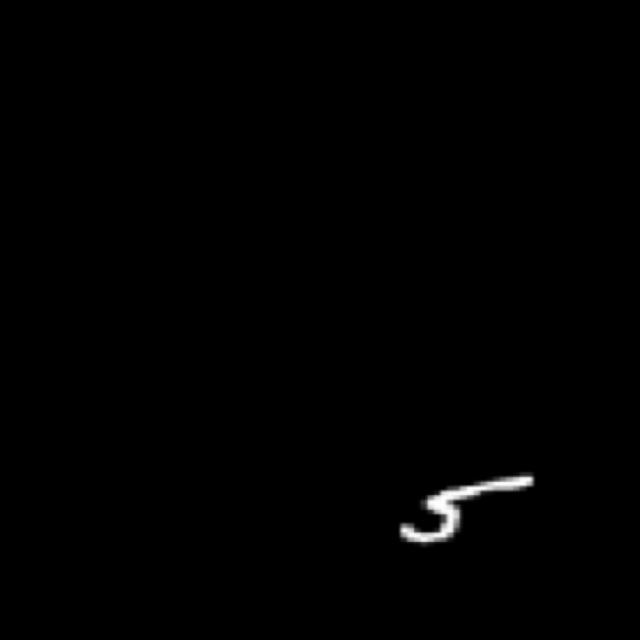five -5-: (394, 474, 538, 546)
